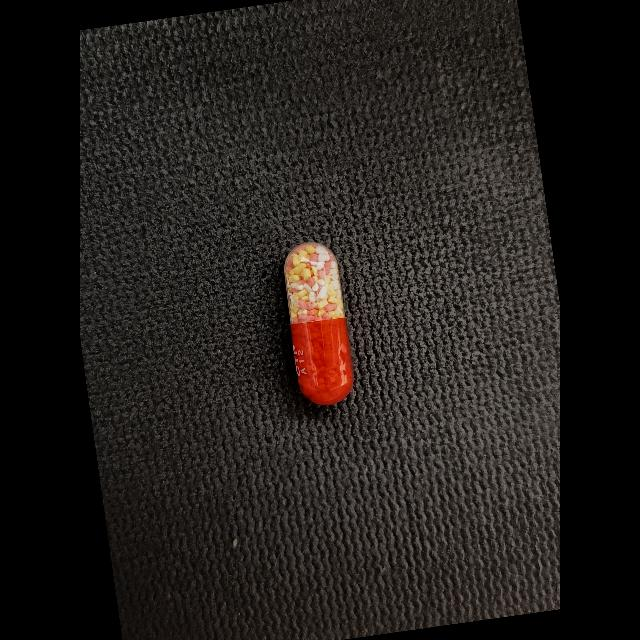Intact Capsule: (284, 242, 353, 405)
